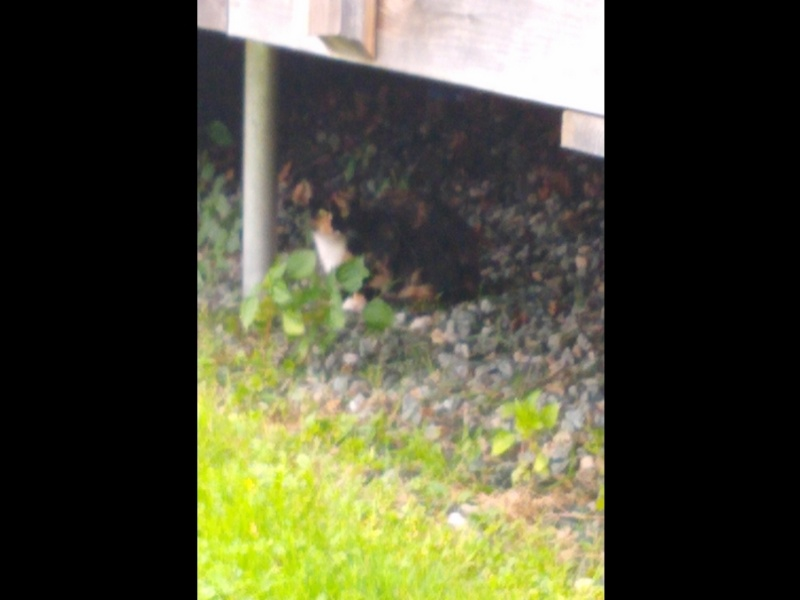cat: (302, 181, 489, 317)
